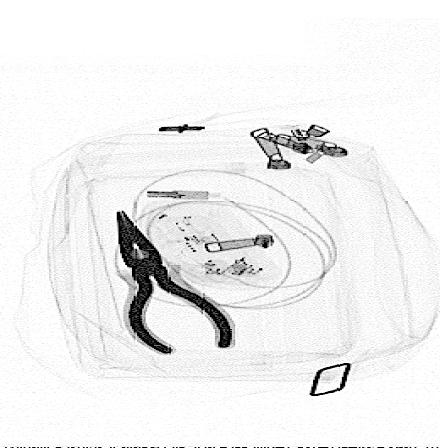Pliers: (109, 207, 238, 359)
